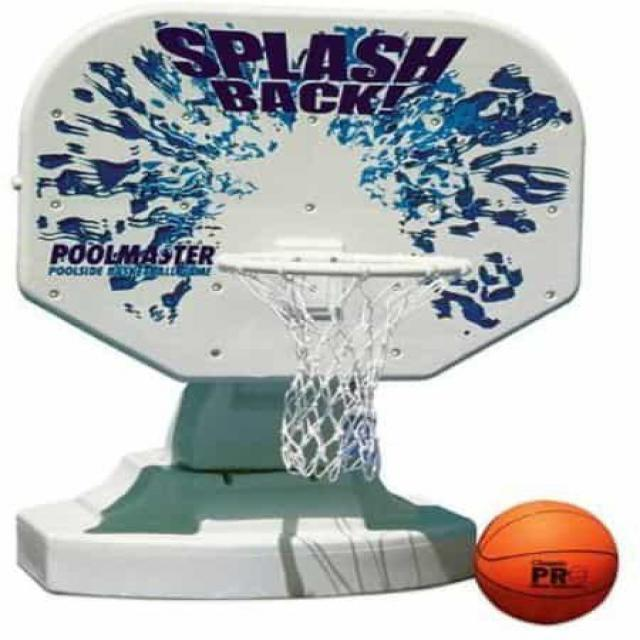Basketball: (474, 500, 620, 624)
hoop: (216, 252, 473, 483)
